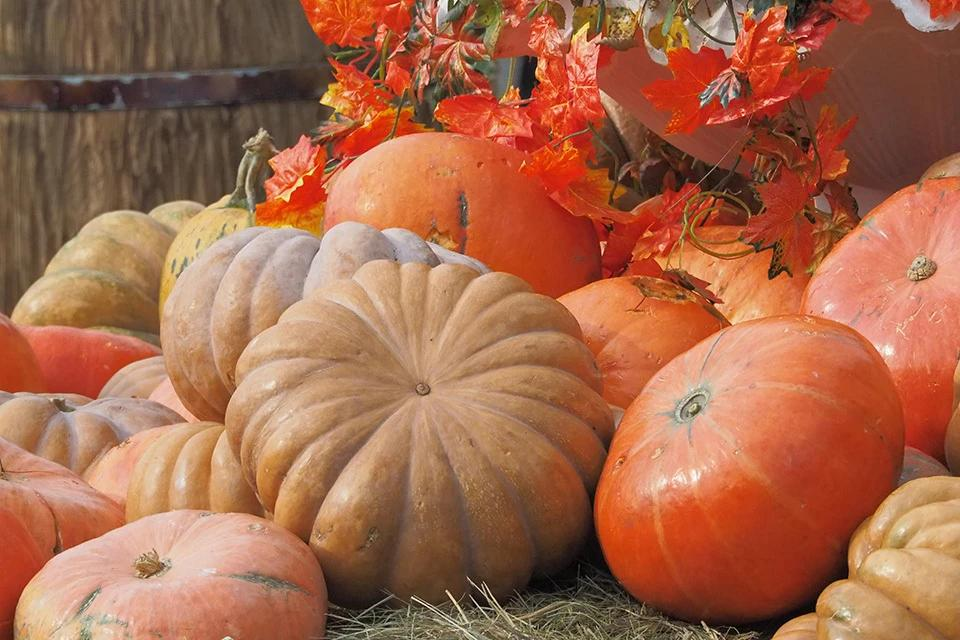pumpkin: (218, 227, 635, 614), (576, 212, 915, 633), (31, 454, 333, 640), (308, 131, 594, 293), (833, 175, 960, 454), (170, 217, 318, 420), (27, 201, 214, 339), (0, 388, 189, 459)
